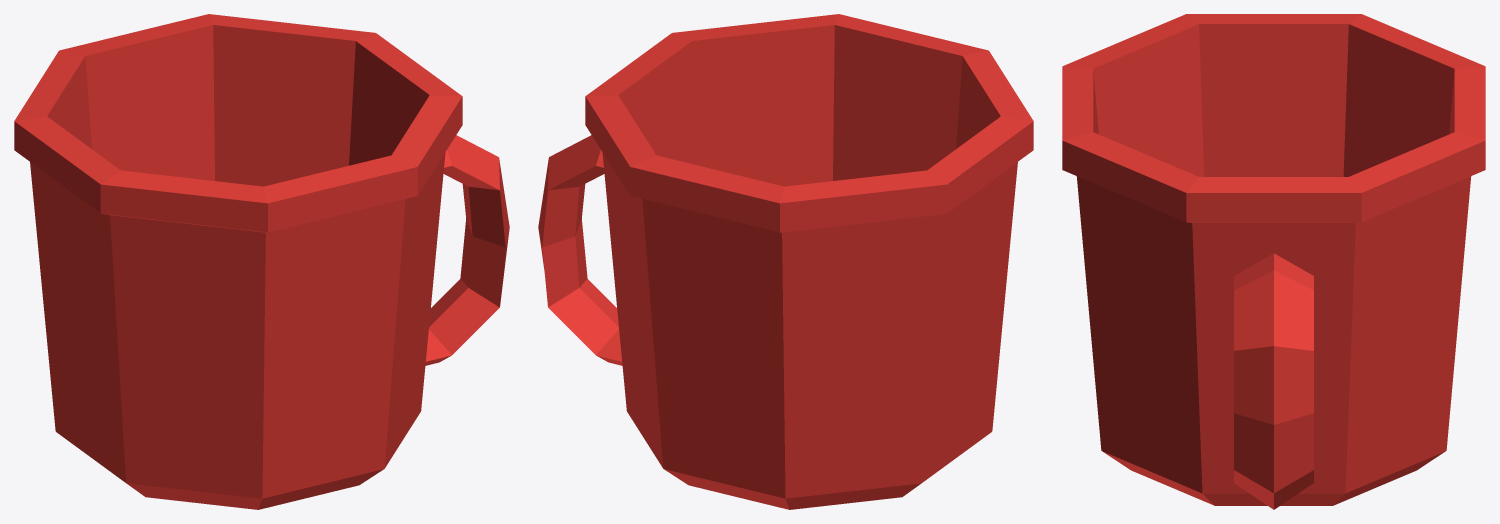
Rendered from SM_Mug_Christmas.fbx.
3 views of the same model, side by side, from view 1: azimuth 30°, elevation 25°; view 2: azimuth 150°, elevation 25°; view 3: azimuth 270°, elevation 25° (orthographic).
Parts seen in each view (by area): view 1: mug-christmas; view 2: mug-christmas; view 3: mug-christmas.
Boxes of the visible parts, x1,y1,x2,y2 form: mug-christmas: (14, 14, 509, 509); mug-christmas: (538, 14, 1033, 509); mug-christmas: (1062, 14, 1485, 509).
Size of the model in its own units: 0.1251 by 0.09 by 0.1001.
